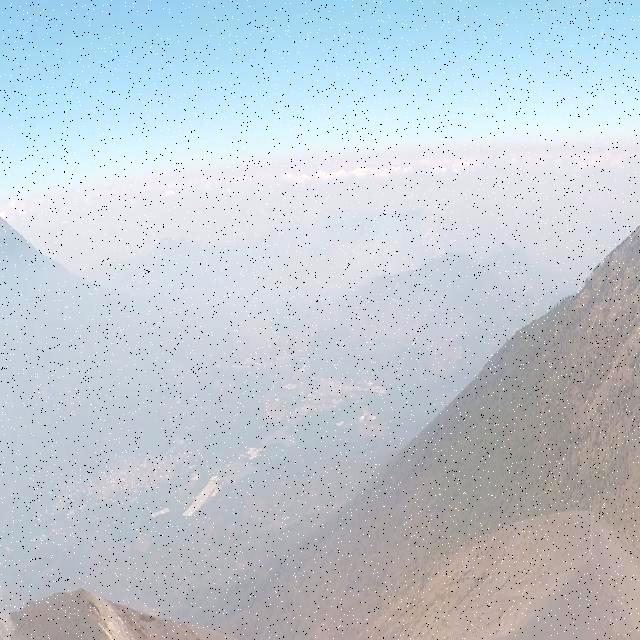Summit: (0, 575, 140, 640)
